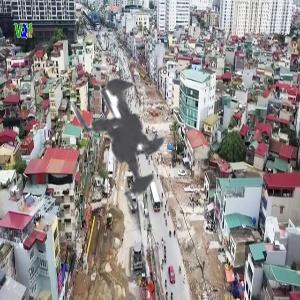drone: (20, 16, 251, 247)
